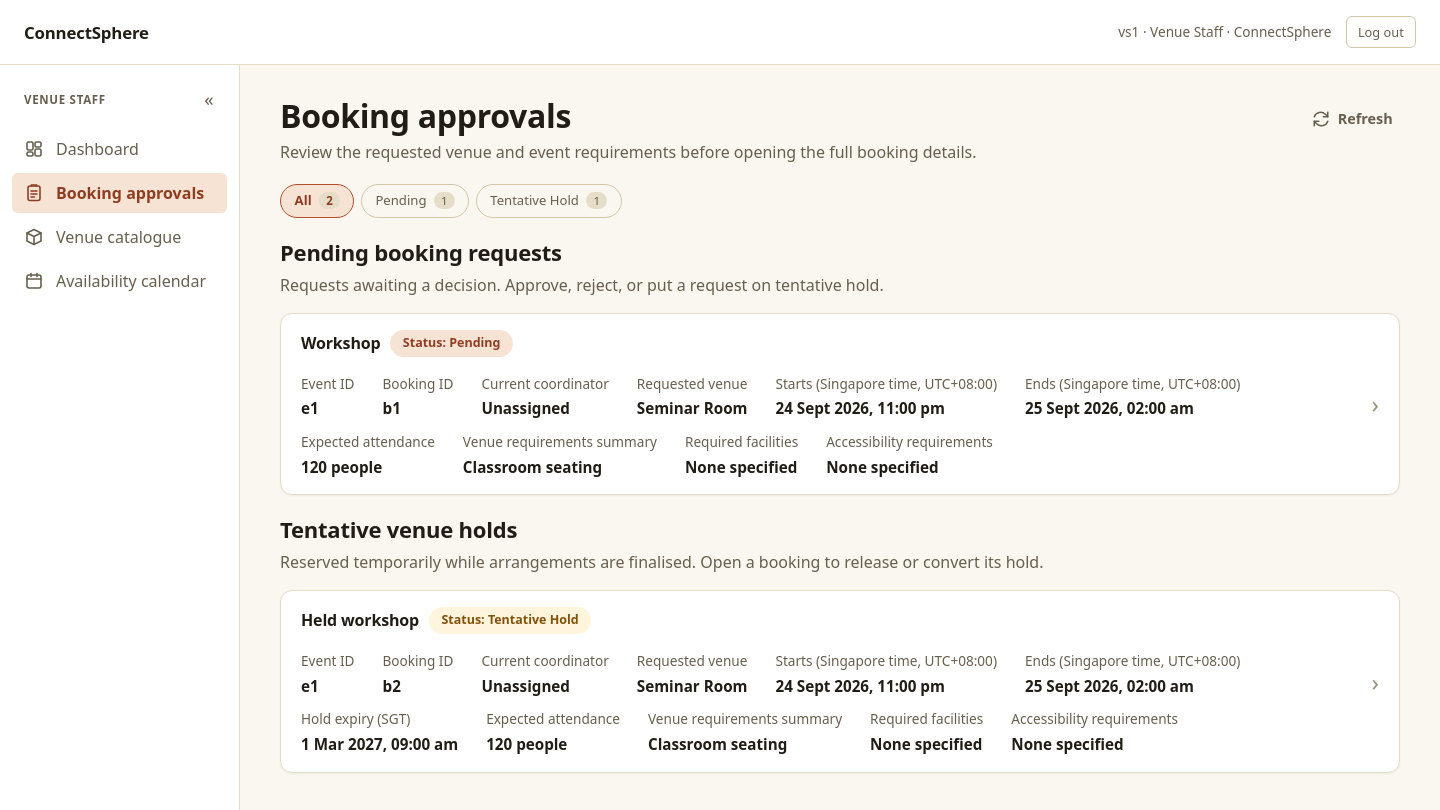
Test: separates tentative holds from pending requests and filters the two queues with counts
expect the heading "Held workshop" is shown: met, box x1=301 y1=610 x2=419 y2=632
expect the text "Hold expiry (SGT)" is shown: met, box x1=301 y1=709 x2=410 y2=728
Click the button "Tentative Hold 1": click(549, 201) x1=476 y1=184 x2=622 y2=218
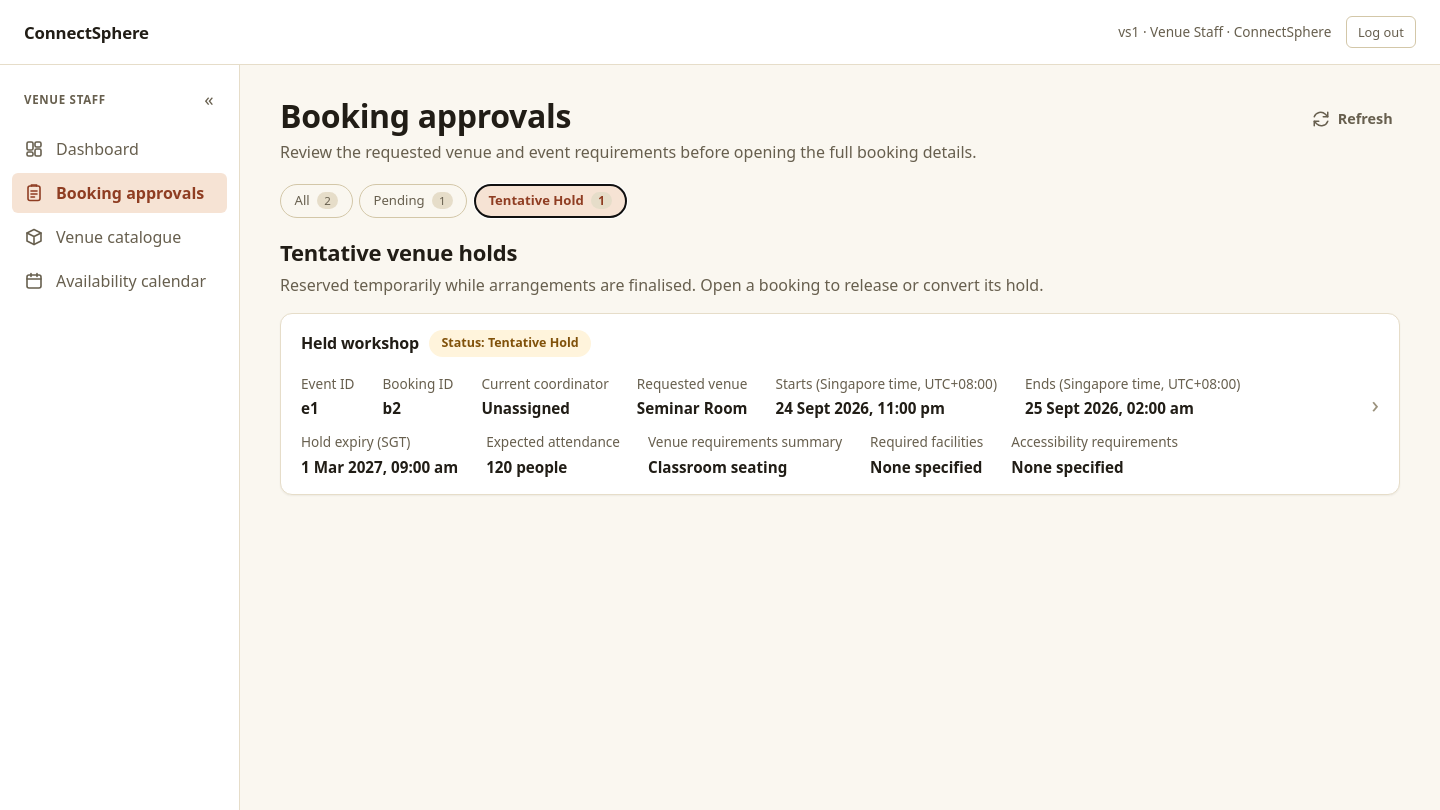
expect the heading "Pending booking requests" is gone: met
Click the button "All 2": click(316, 201) x1=280 y1=184 x2=352 y2=218
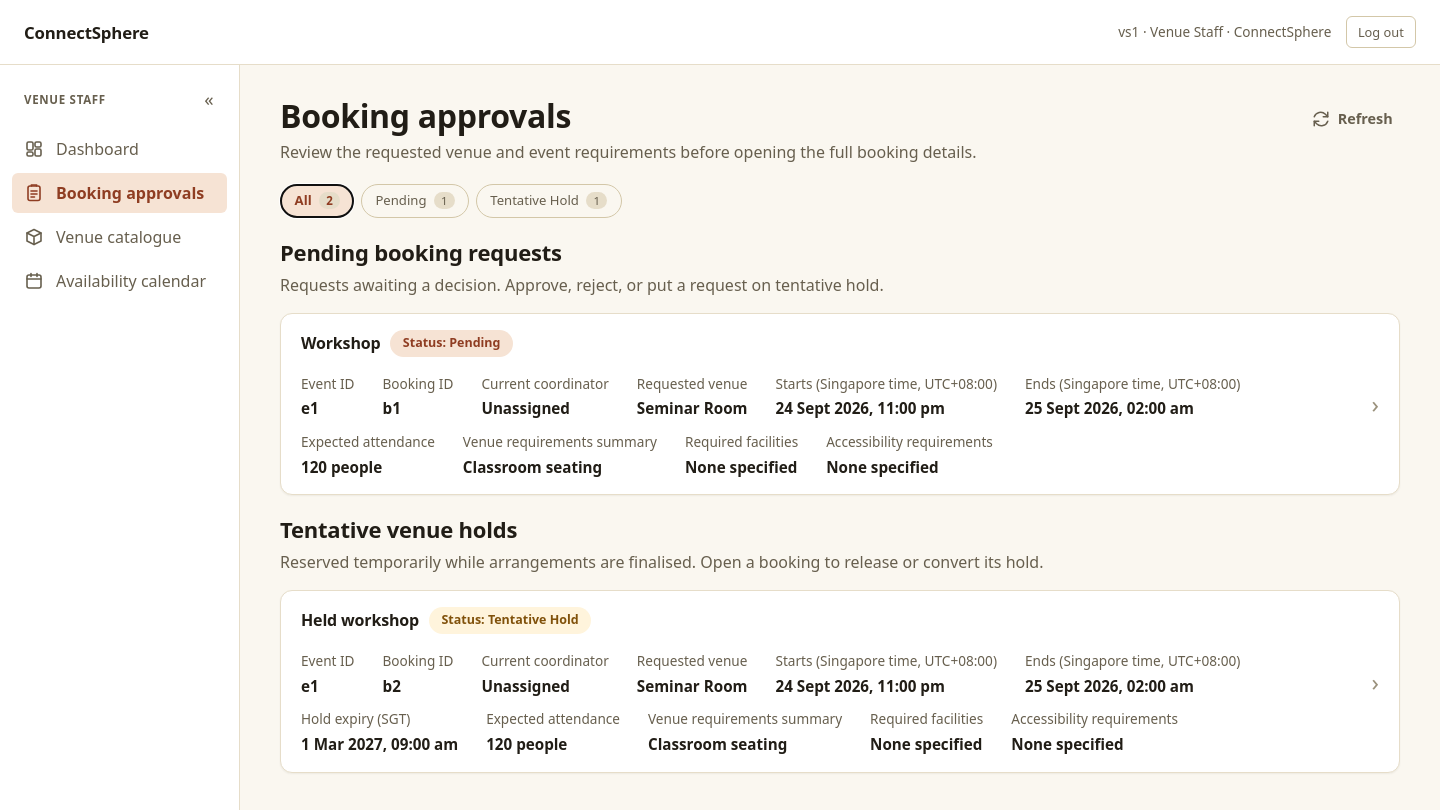
expect the element "Pending booking requests" is shown: met, box x1=280 y1=238 x2=1400 y2=496
